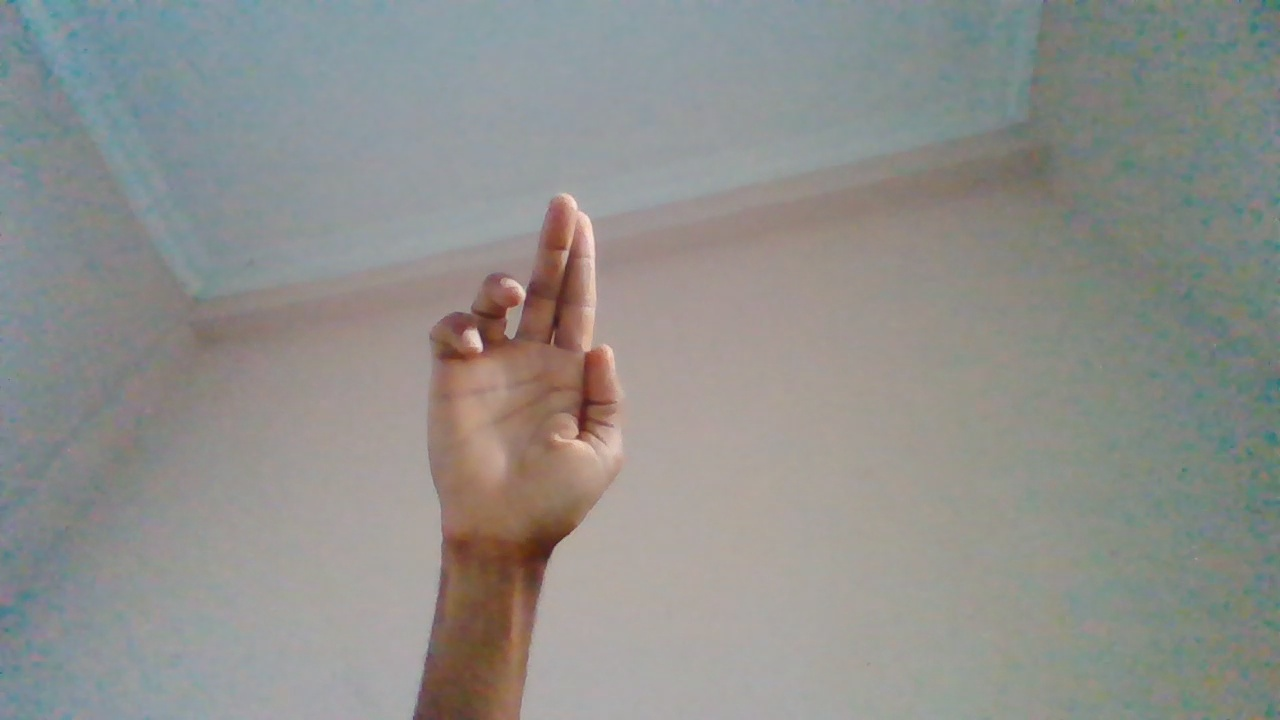gne: (429, 190, 620, 630)
